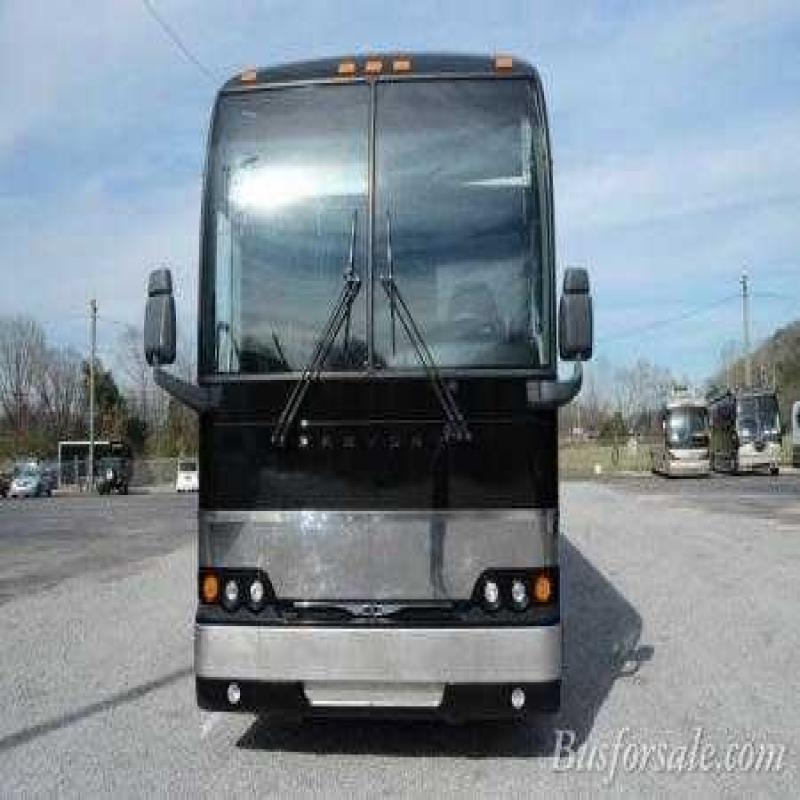bus: (154, 15, 608, 744)
